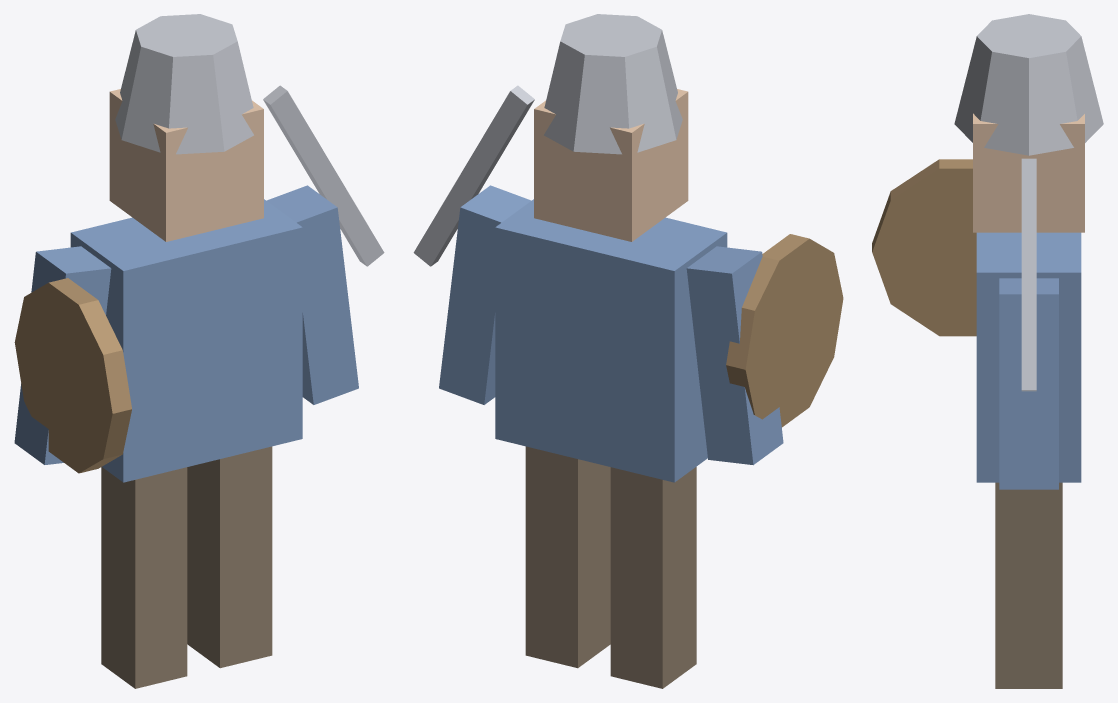
File: Swordsman.fbx
3 renders of one model, left to right at view 1: azimuth 30°, elevation 25°; view 2: azimuth 150°, elevation 25°; view 3: azimuth 270°, elevation 25°, orthographic.
Parts seen in each view (by area): view 1: Torso.001, LegL.001, LegR.001, Shield, Helm, Head.001, ArmR.001, Blade, ArmL.001; view 2: Torso.001, LegL.001, LegR.001, Shield, Helm, Head.001, ArmL.001, ArmR.001, Blade; view 3: Helm, Shield, Torso.001, LegR.001, ArmR.001, Head.001, Blade.
Part boxes in pixels (<box>): Torso.001: <box>70,199,302,482</box>; LegL.001: <box>101,467,187,688</box>; LegR.001: <box>187,446,272,668</box>; Shield: <box>14,278,131,473</box>; Helm: <box>115,14,253,154</box>; Head.001: <box>109,89,263,241</box>; ArmR.001: <box>266,185,358,404</box>; Blade: <box>263,85,384,266</box>; ArmL.001: <box>14,246,111,464</box>; Torso.001: <box>495,199,727,482</box>; LegL.001: <box>610,467,696,688</box>; LegR.001: <box>525,446,610,668</box>; Shield: <box>726,234,843,427</box>; Helm: <box>544,14,682,154</box>; Head.001: <box>534,89,688,241</box>; ArmL.001: <box>686,246,783,465</box>; ArmR.001: <box>439,185,531,404</box>; Blade: <box>413,85,534,266</box>; Helm: <box>954,14,1103,155</box>; Shield: <box>872,159,976,336</box>; Torso.001: <box>976,232,1081,482</box>; LegR.001: <box>995,482,1062,688</box>; ArmR.001: <box>999,278,1058,489</box>; Head.001: <box>973,113,1084,232</box>; Blade: <box>1021,158,1036,391</box>.
Bounding box in the file's own units: 108 × 183 × 62.
